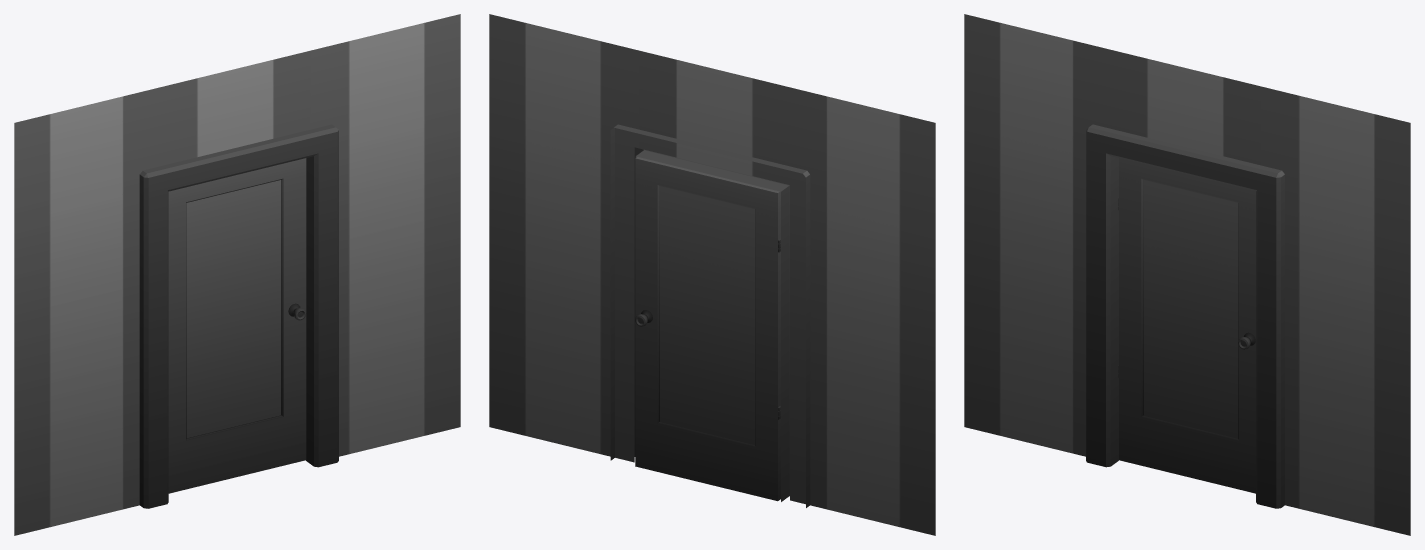
Rendered from Wall_01_Door_01.fbx.
The picture shows the model from 3 angles, left to right: view 1: azimuth 30°, elevation 25°; view 2: azimuth 150°, elevation 25°; view 3: azimuth 330°, elevation 25°; orthographic projection.
Parts seen in each view (by area): view 1: Wall_01_Door_01; view 2: Wall_01_Door_01; view 3: Wall_01_Door_01.
Boxes of the visible parts, bbox=[...] form: Wall_01_Door_01: bbox=[14, 14, 460, 535]; Wall_01_Door_01: bbox=[489, 14, 935, 535]; Wall_01_Door_01: bbox=[964, 14, 1410, 535].
Bounding box in the file's own units: 3 × 2.65 × 0.2141.
